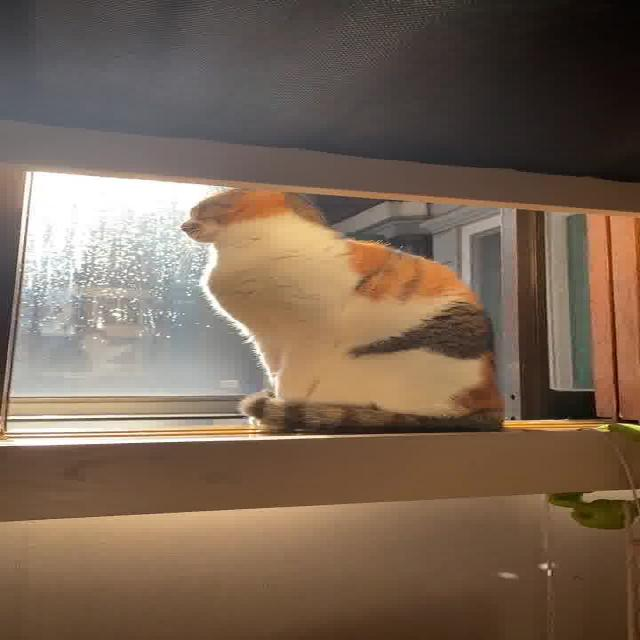cat: (133, 166, 530, 440)
